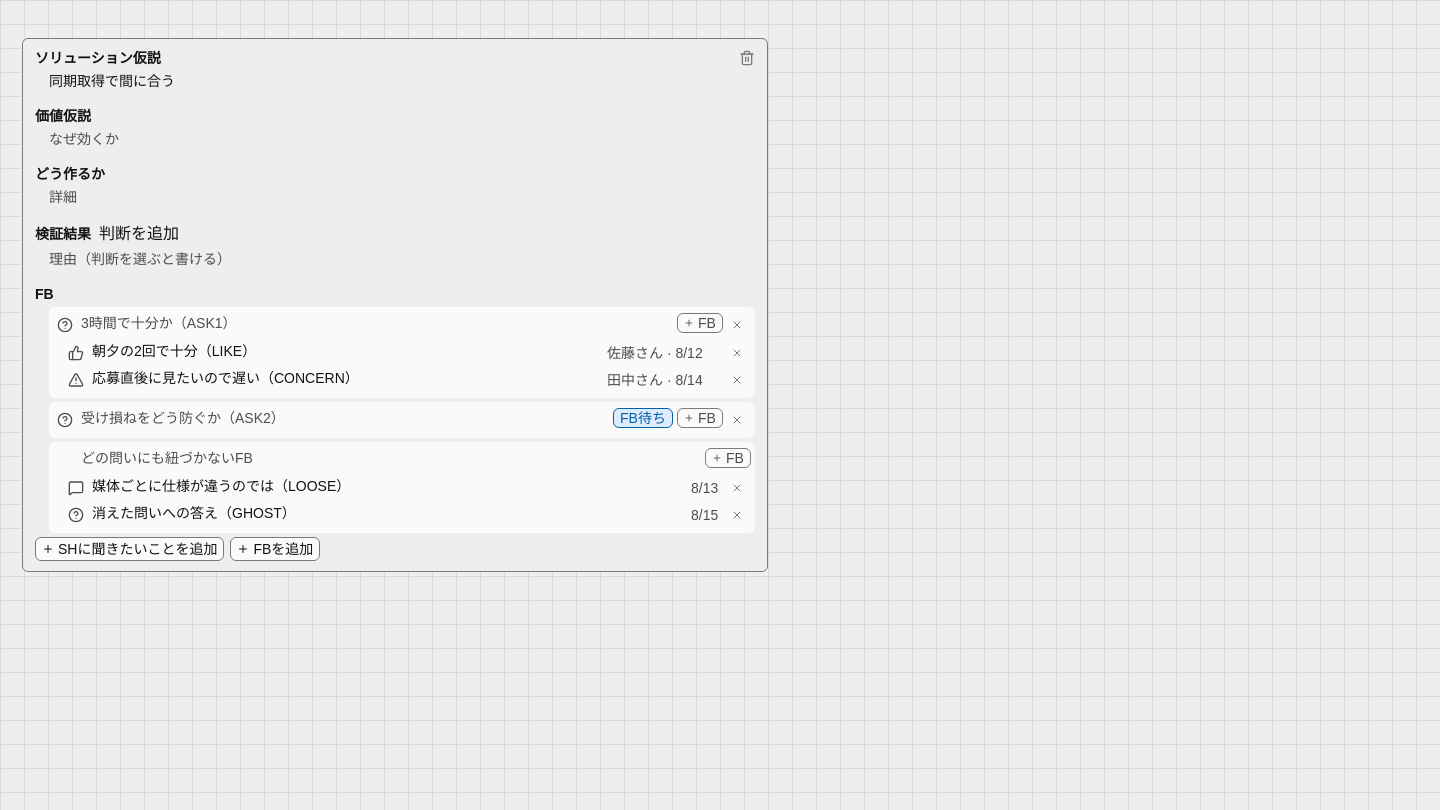
Test case: AskBlock: 調子を選ぶ › アイコンを押すと4語が出る（語はスキーマの説明から）
Press the mouse on the button named "仮説1 のFB1の調子" at [76, 353], box [68,341,84,365]
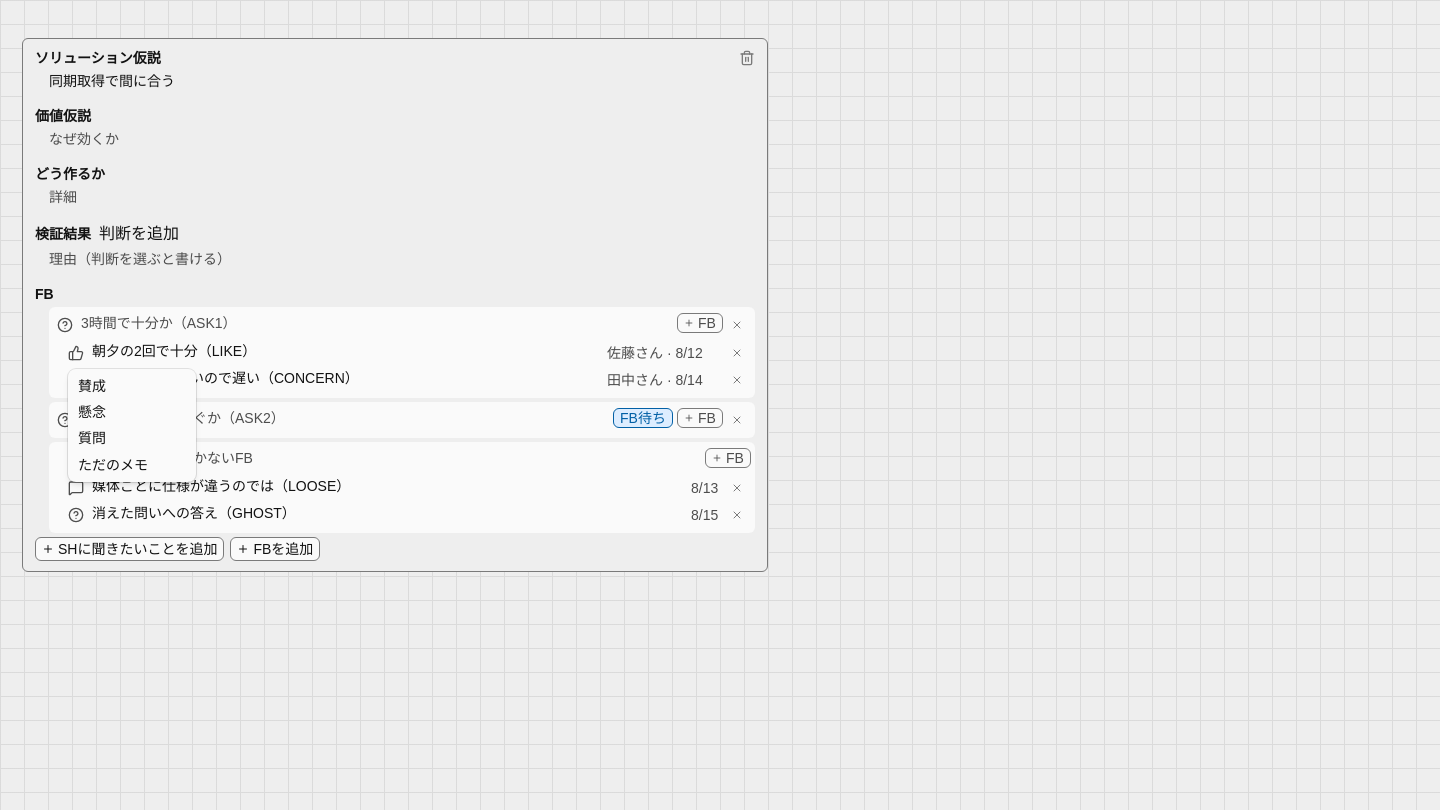
expect the menu items read "賛成", "懸念", "質問", "ただのメモ", in this order: met, box [78,378,106,394]; [78,404,106,420]; [78,430,106,446]; [78,457,148,473]
